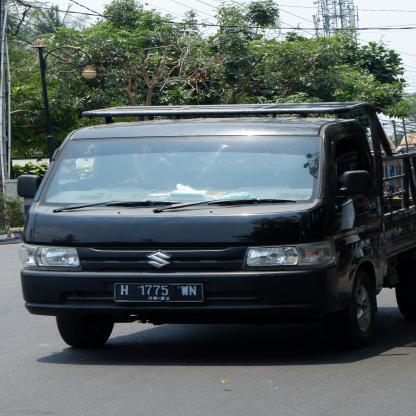Plat-Nomor: (110, 282, 206, 306)
